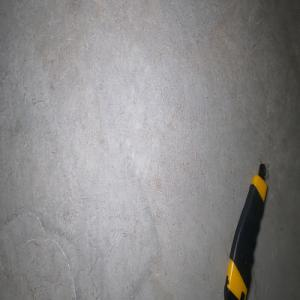Cutter: (223, 162, 268, 300)
